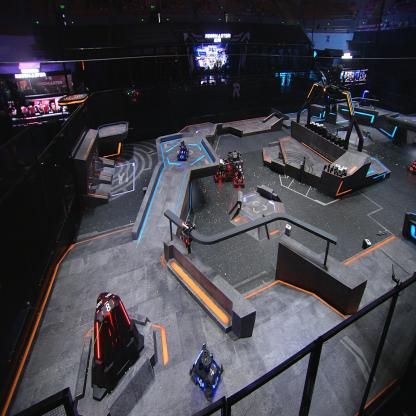car: (188, 342, 224, 399), (226, 150, 244, 180), (214, 158, 230, 184), (176, 140, 189, 161), (233, 167, 246, 187), (408, 152, 416, 176)
